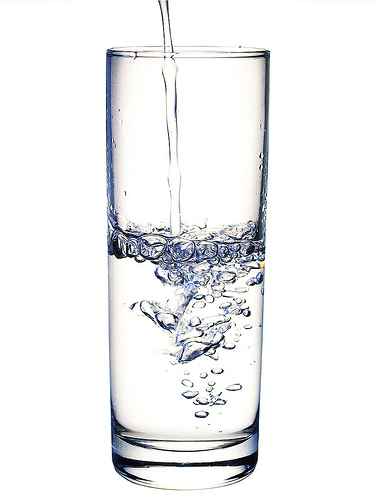glass of water: (104, 153, 258, 480)
